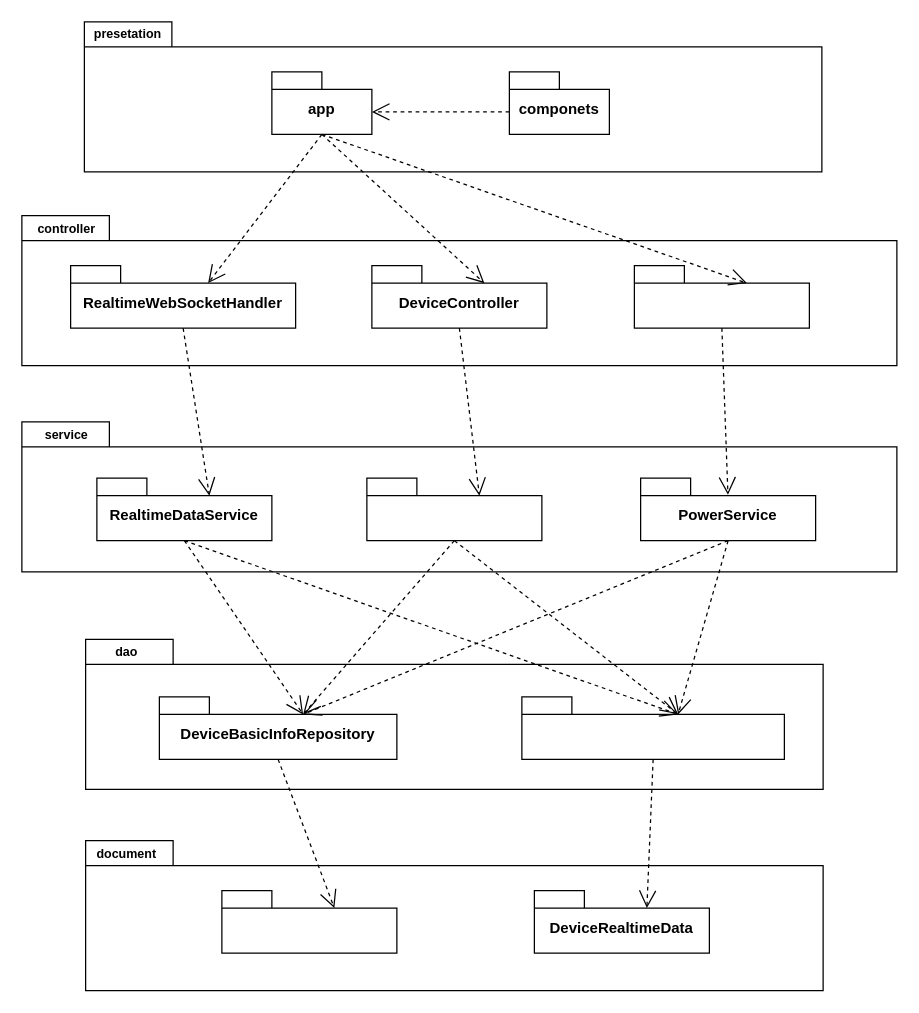
Some shapes in this 919 by 1013 pixel diagram are drawn without their labels. Here are the shapes that lost their labels. From the top down, the centre of each, then its label:
[721,296]: PowerController
[454,509]: DeviceService
[652,727]: DeviceRealtimeDataRepository
[309,921]: DeviceBasicInfo
